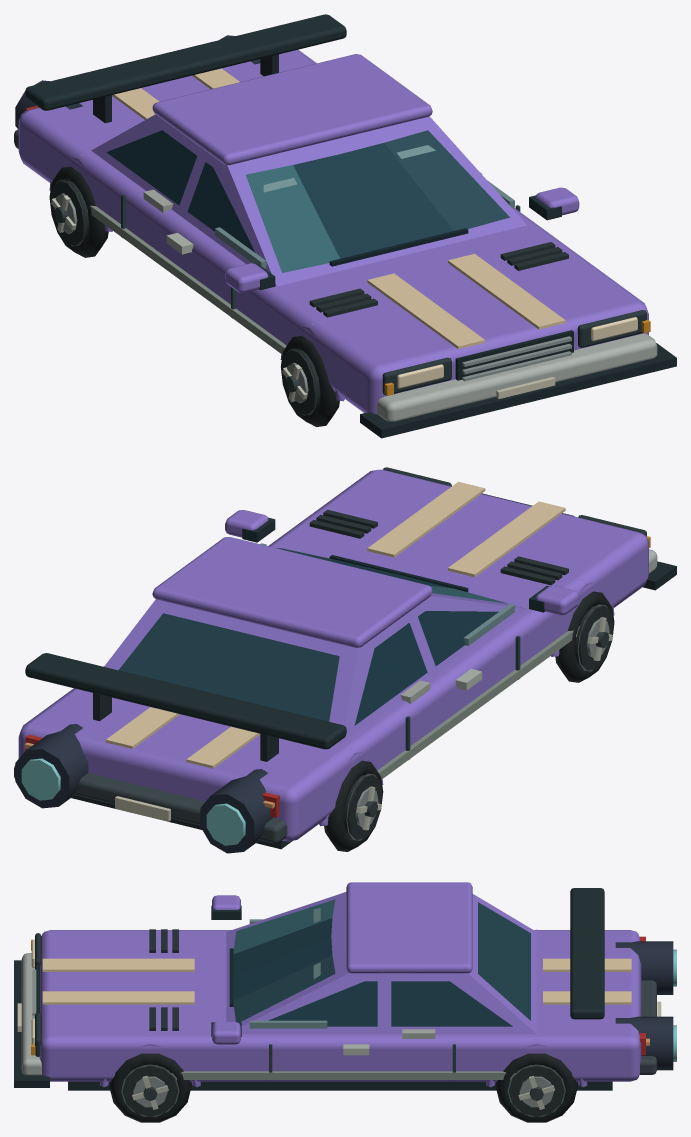
File: booster.glb
3 views of the same model, one above another, from view 1: azimuth 30°, elevation 25°; view 2: azimuth 150°, elevation 25°; view 3: azimuth 270°, elevation 25° (orthographic). The views are drawn at different scales.
Visible parts, largest first — view 1: booster_body; view 2: booster_body; view 3: booster_body.
Part boxes in pixels (x1,y1,x2,y2): booster_body: (14, 14, 676, 438); booster_body: (14, 467, 676, 853); booster_body: (14, 882, 676, 1122).
Size of the model in its own units: 2.29 by 1.1 by 4.61.
